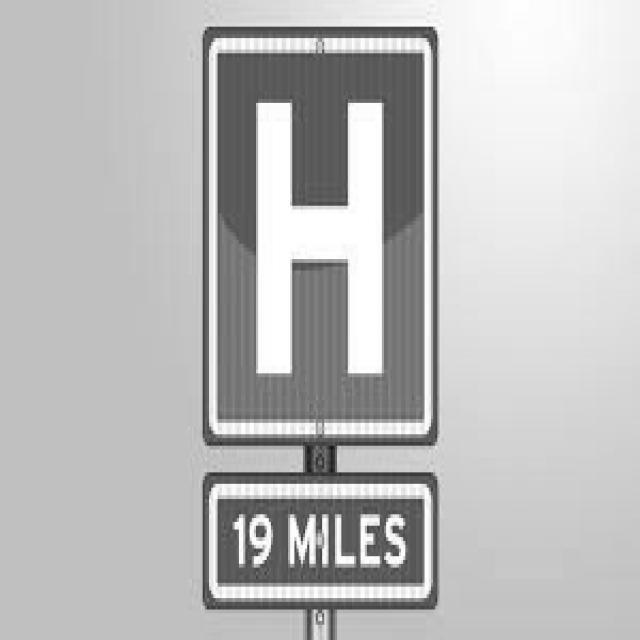hospital ahead: (203, 29, 437, 436)
